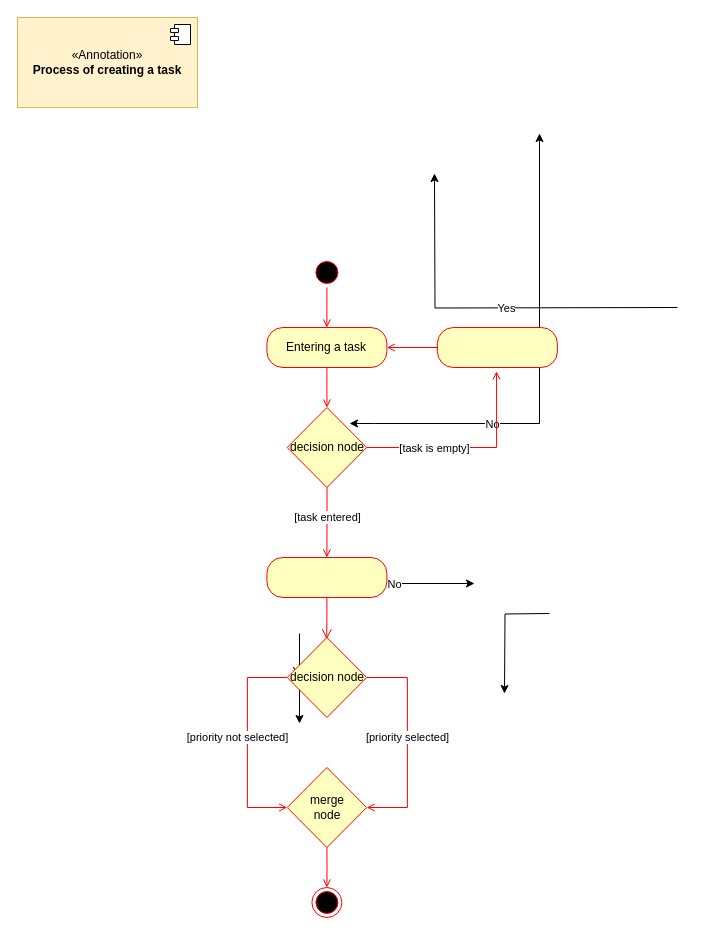
The diagram is 703 pixels wide and 935 high, and some of its shapes have lost their labels. Here are the shapes that lost their labels. From the top down, the centre of each, then its label:
At point (496, 347): "Error".
At point (326, 577): "Selecting priority".
